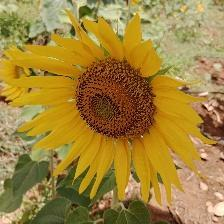sunflower: (33, 39, 192, 195)
